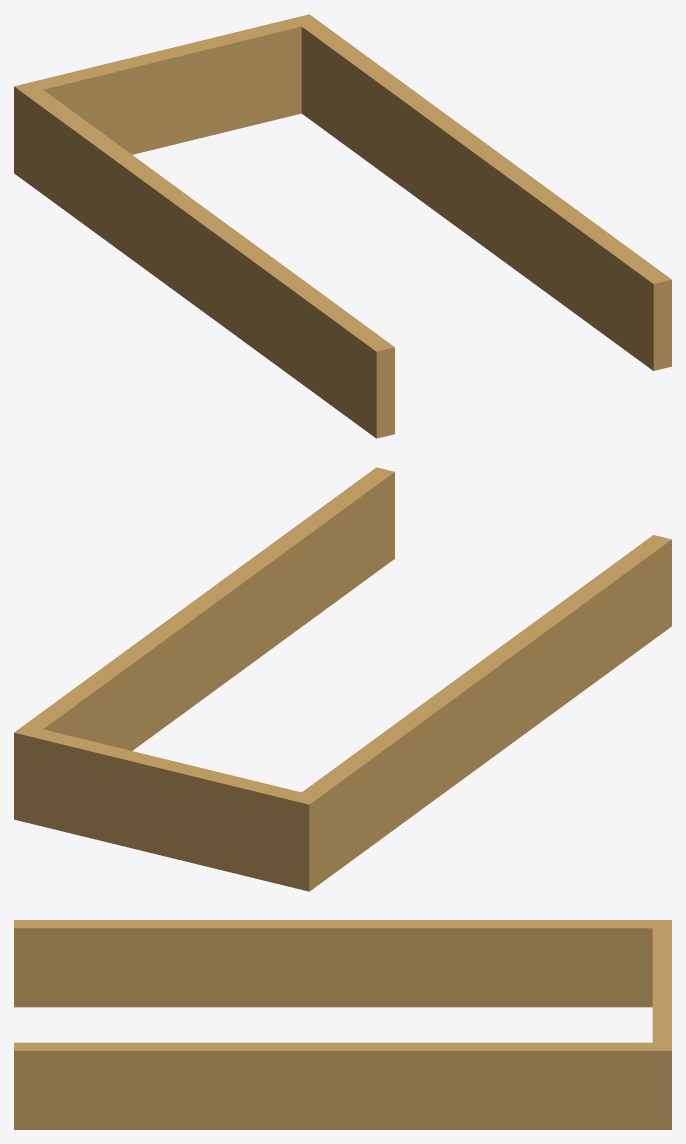
Rendered from doorFrame.dae.
The picture shows the model from 3 angles, top to bottom: view 1: azimuth 30°, elevation 25°; view 2: azimuth 150°, elevation 25°; view 3: azimuth 270°, elevation 25°; orthographic projection. The views are drawn at different scales.
Visible parts, largest first — view 1: DoorFrame; view 2: DoorFrame; view 3: DoorFrame.
Part boxes in pixels (x1=…): DoorFrame: x1=14, y1=14, x2=671, y2=438; DoorFrame: x1=14, y1=467, x2=671, y2=891; DoorFrame: x1=14, y1=920, x2=671, y2=1129.
Bounding box in the file's own units: 0.96 × 2.04 × 0.27.
